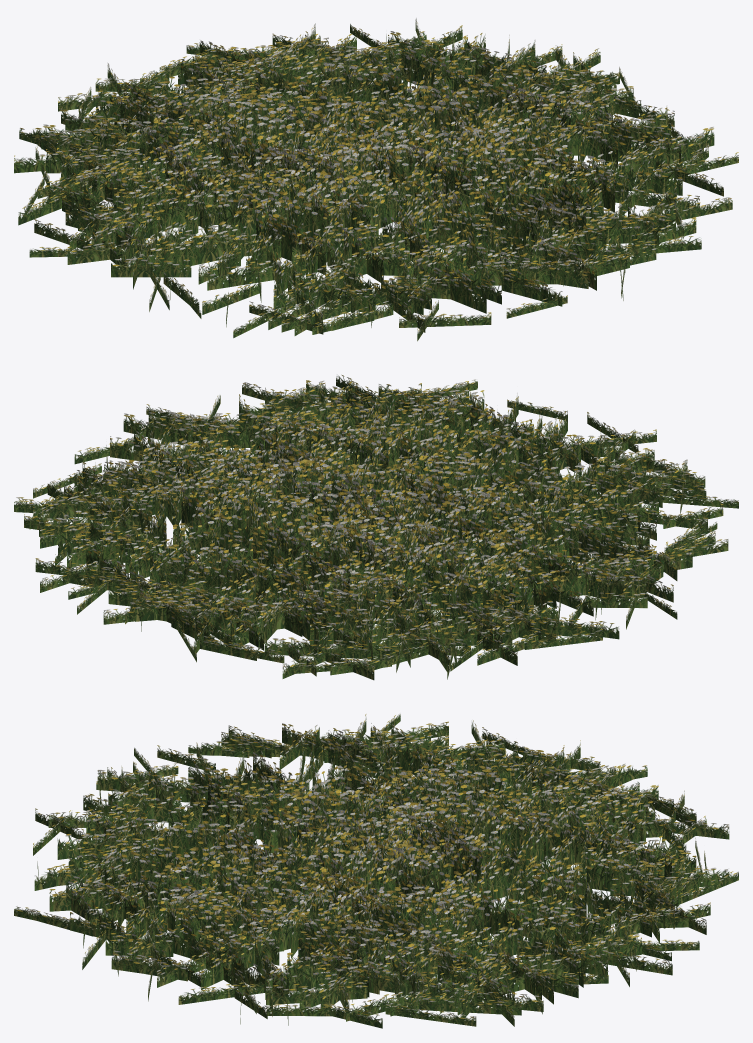
The model's file is grass_b.glb.
3 renders of one model, top to bottom at view 1: azimuth 30°, elevation 25°; view 2: azimuth 150°, elevation 25°; view 3: azimuth 270°, elevation 25°, orthographic. The views are drawn at different scales.
Visible parts, largest first — view 1: grass_b; view 2: grass_b; view 3: grass_b.
Part boxes in pixels (bbox=[...]): grass_b: bbox=[14, 18, 738, 341]; grass_b: bbox=[14, 375, 738, 680]; grass_b: bbox=[14, 714, 738, 1028].
Size of the model in its own units: 6.9 by 0.5369 by 6.88.
Materials: 1 (1 with a texture image).
